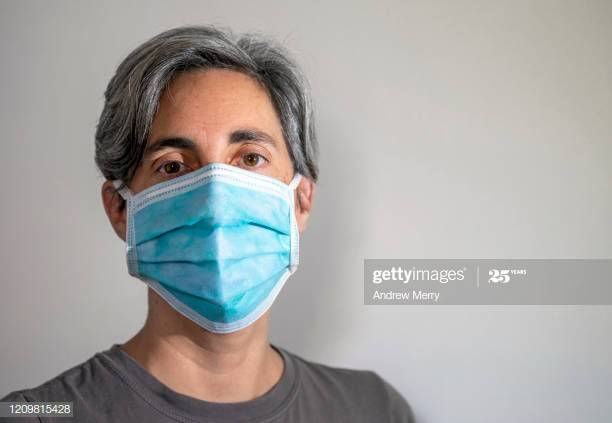surgical: (118, 162, 310, 331)
